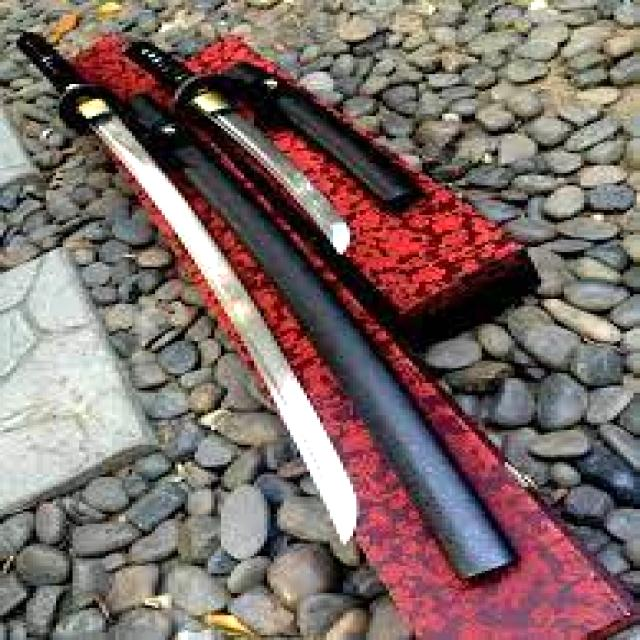long sword: (16, 30, 372, 545)
